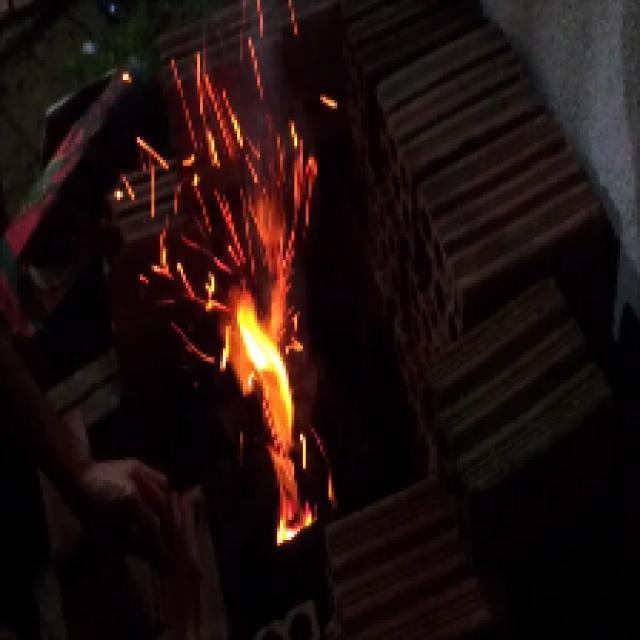fire: (143, 24, 363, 565)
